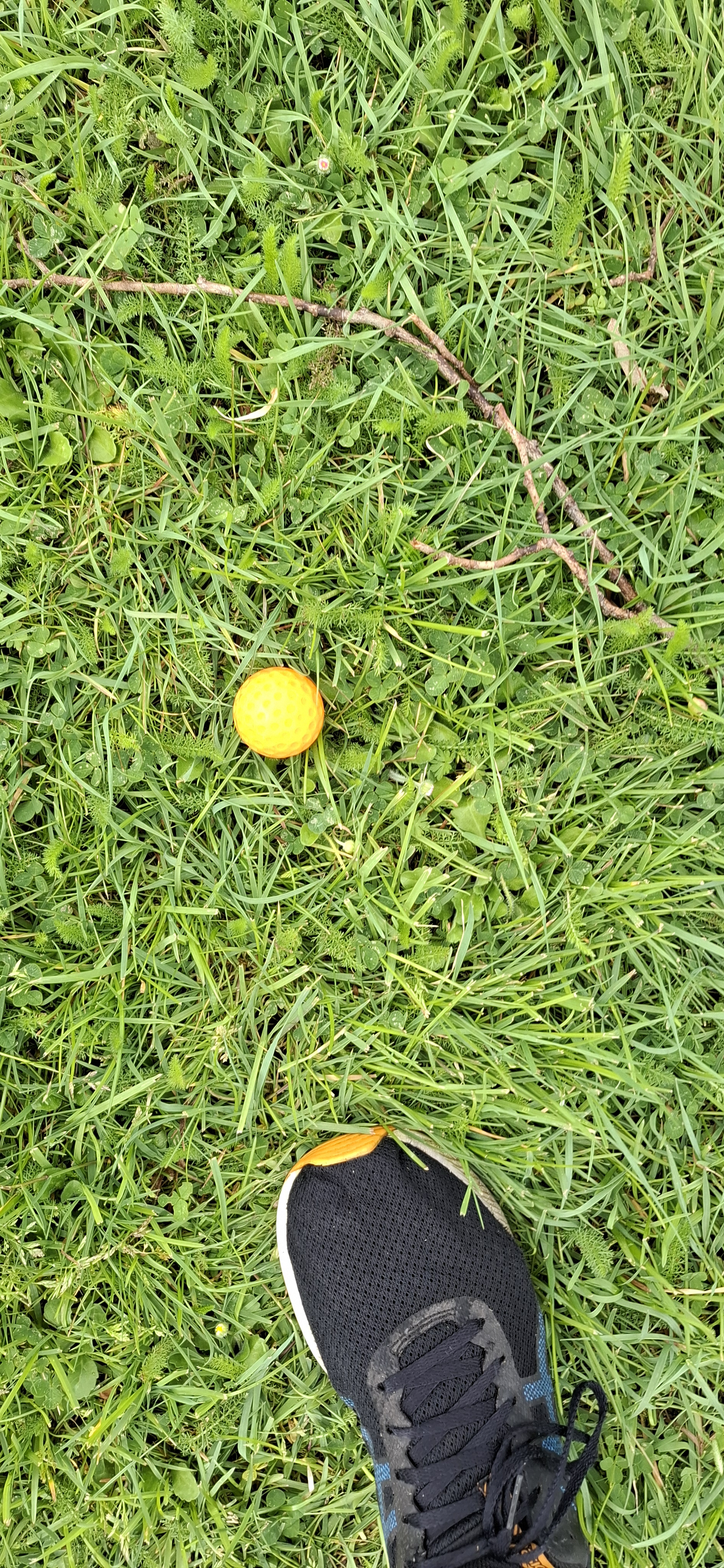ball: (308, 863, 350, 1065)
